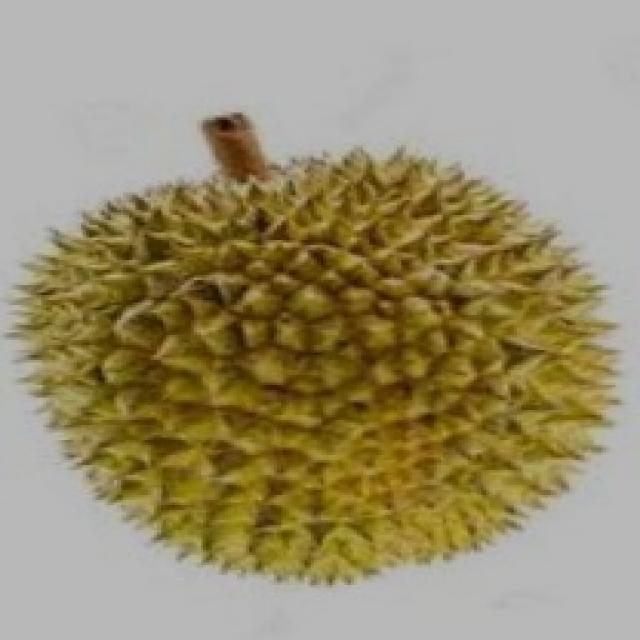fruit: (283, 238, 640, 630), (0, 272, 375, 637)
